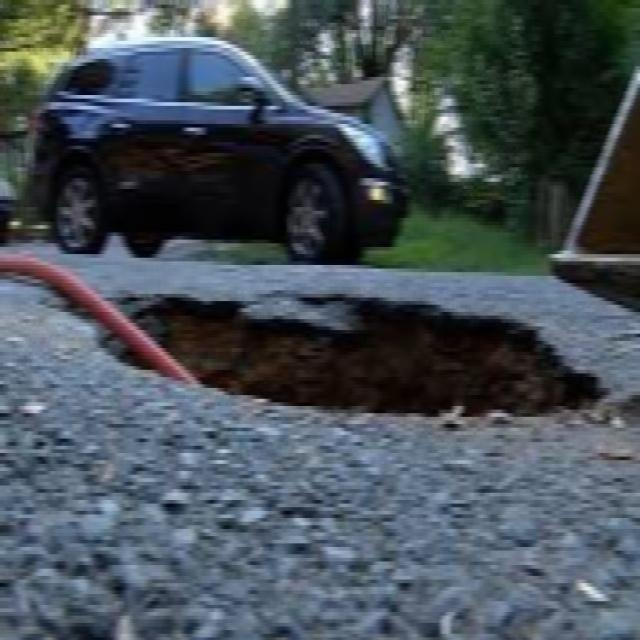Pothole: (63, 259, 623, 452)
